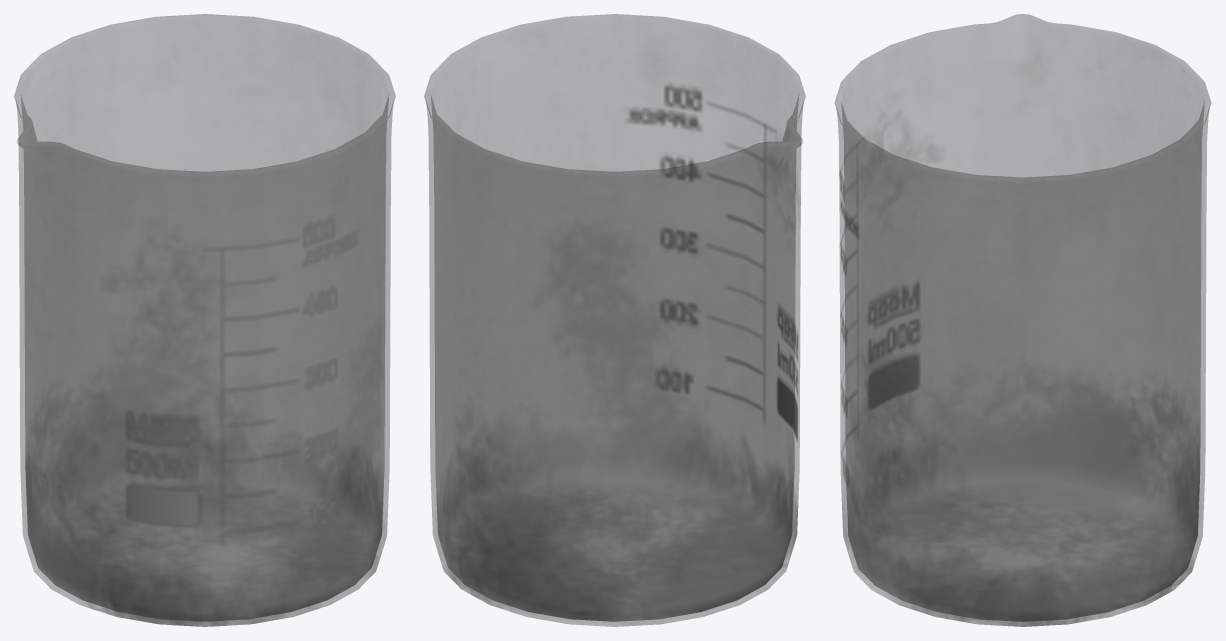
Rendered from beaker_med.glb.
3 renders of one model, left to right at view 1: azimuth 30°, elevation 25°; view 2: azimuth 150°, elevation 25°; view 3: azimuth 270°, elevation 25°, orthographic.
Parts seen in each view (by area): view 1: chemistry_set_beaker_med.001; view 2: chemistry_set_beaker_med.001; view 3: chemistry_set_beaker_med.001.
Part boxes in pixels (<box>): chemistry_set_beaker_med.001: <box>14,14,395,626</box>; chemistry_set_beaker_med.001: <box>424,14,805,626</box>; chemistry_set_beaker_med.001: <box>834,14,1211,626</box>.
Bounding box in the file's own units: 0.0966 × 0.1211 × 0.0908.
Materials: 1 (1 with a texture image).
